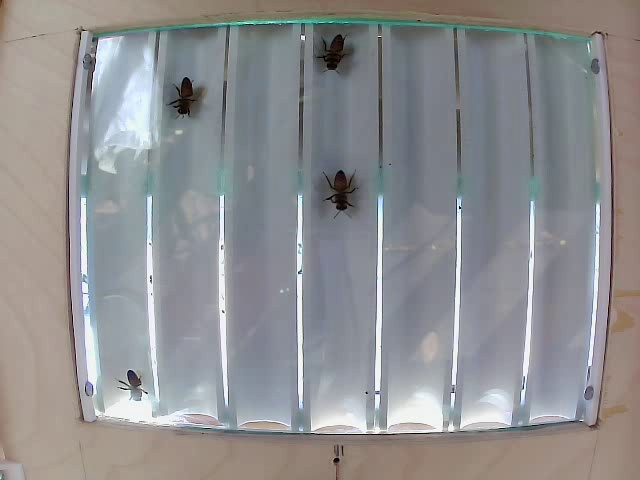bee: (323, 164, 369, 223), (315, 33, 363, 83), (103, 367, 156, 401), (171, 86, 200, 131)
